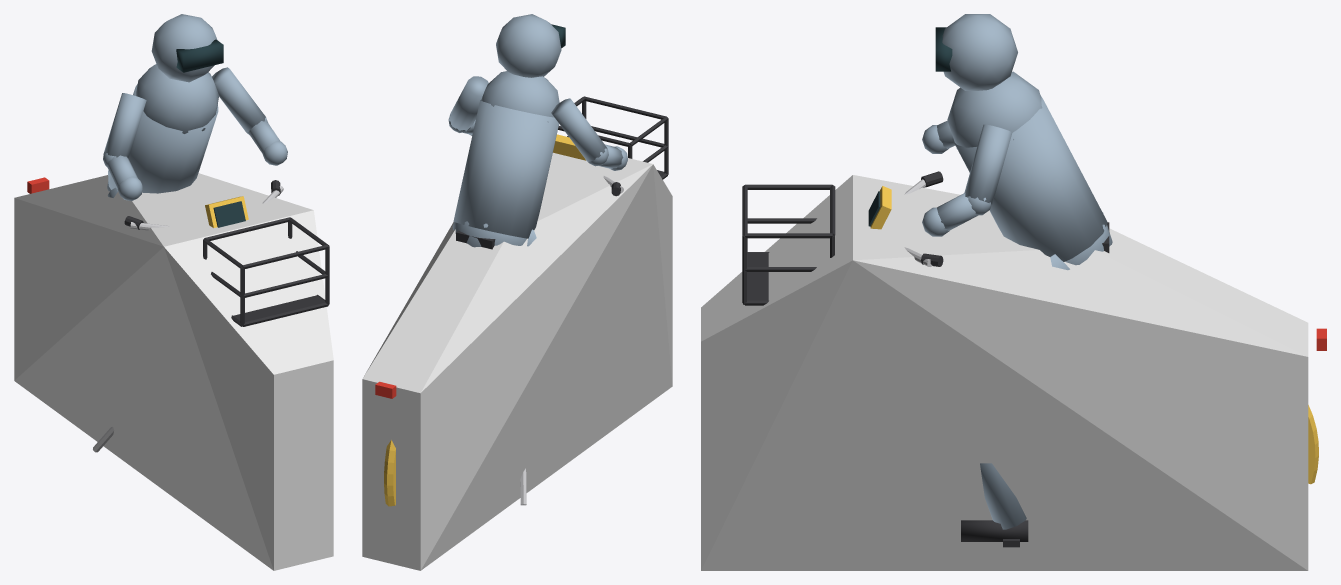
Rendered from SM_DST_Vehicle_MeBike.fbx.
The picture shows the model from 3 angles, left to right: view 1: azimuth 30°, elevation 25°; view 2: azimuth 150°, elevation 25°; view 3: azimuth 270°, elevation 25°; orthographic projection. The views are drawn at different scales.
Parts seen in each view (by area): view 1: COL_Body, Rider, Steer, Body; view 2: COL_Body, Rider, Steer, Body; view 3: COL_Body, Rider, Steer, Body.
Boxes of the visible parts, bbox=[...] form: COL_Body: bbox=[14, 173, 333, 570]; Rider: bbox=[103, 14, 287, 201]; Steer: bbox=[124, 180, 329, 326]; Body: bbox=[27, 177, 113, 452]; COL_Body: bbox=[362, 152, 672, 570]; Rider: bbox=[448, 14, 627, 247]; Steer: bbox=[553, 96, 668, 196]; Body: bbox=[375, 230, 526, 506]; COL_Body: bbox=[701, 175, 1308, 570]; Rider: bbox=[922, 14, 1112, 541]; Steer: bbox=[742, 171, 943, 305]; Body: bbox=[1102, 222, 1326, 484].
Size of the model in its own units: 0.6656 by 1.76 by 1.86.
